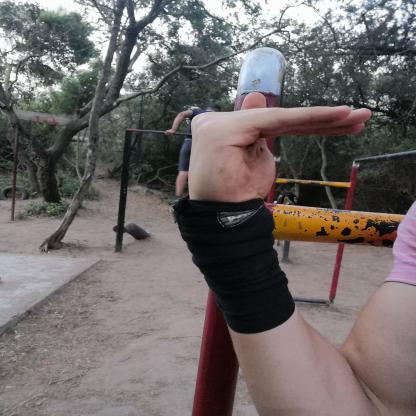KHAA: (164, 81, 392, 212)
